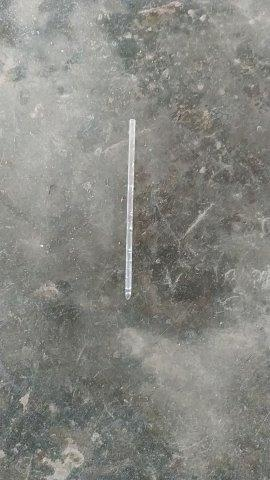sedotan: (123, 120, 136, 297)
